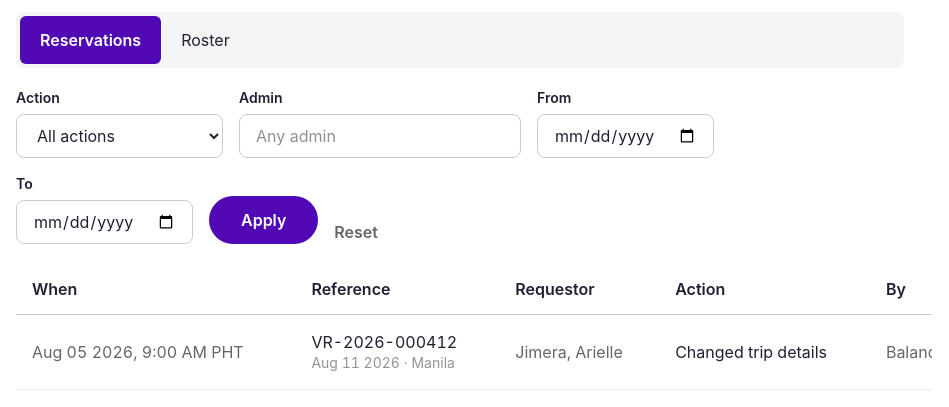
Test: AuditView › does not seed roster results with the reservation initialData
This screenshot has width=949, height=407.
Check: the text "VR-2026-000412" is shown, box 311,332 -> 457,352
Step 1. Click the button "Roster" → [205, 40], box 161,16 -> 250,64
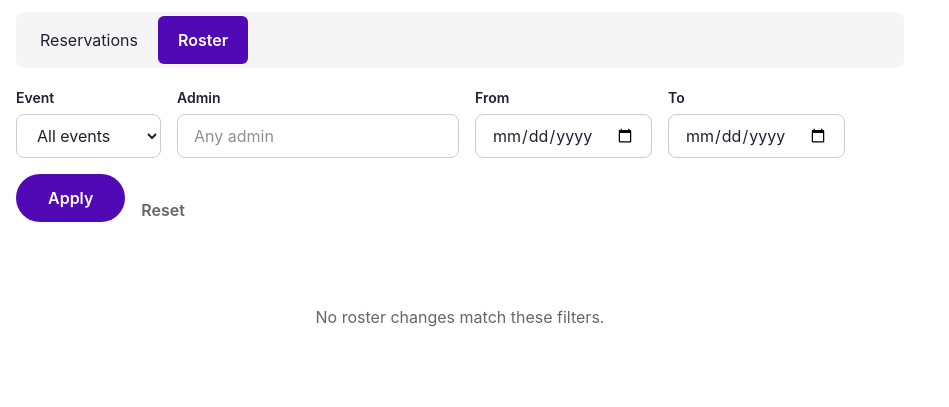
Check: the text "VR-2026-000412" is gone
